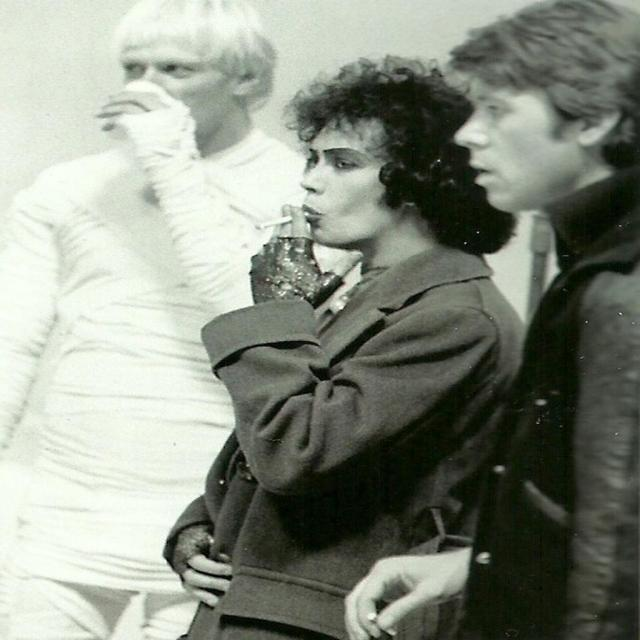smoking: (240, 103, 440, 303)
